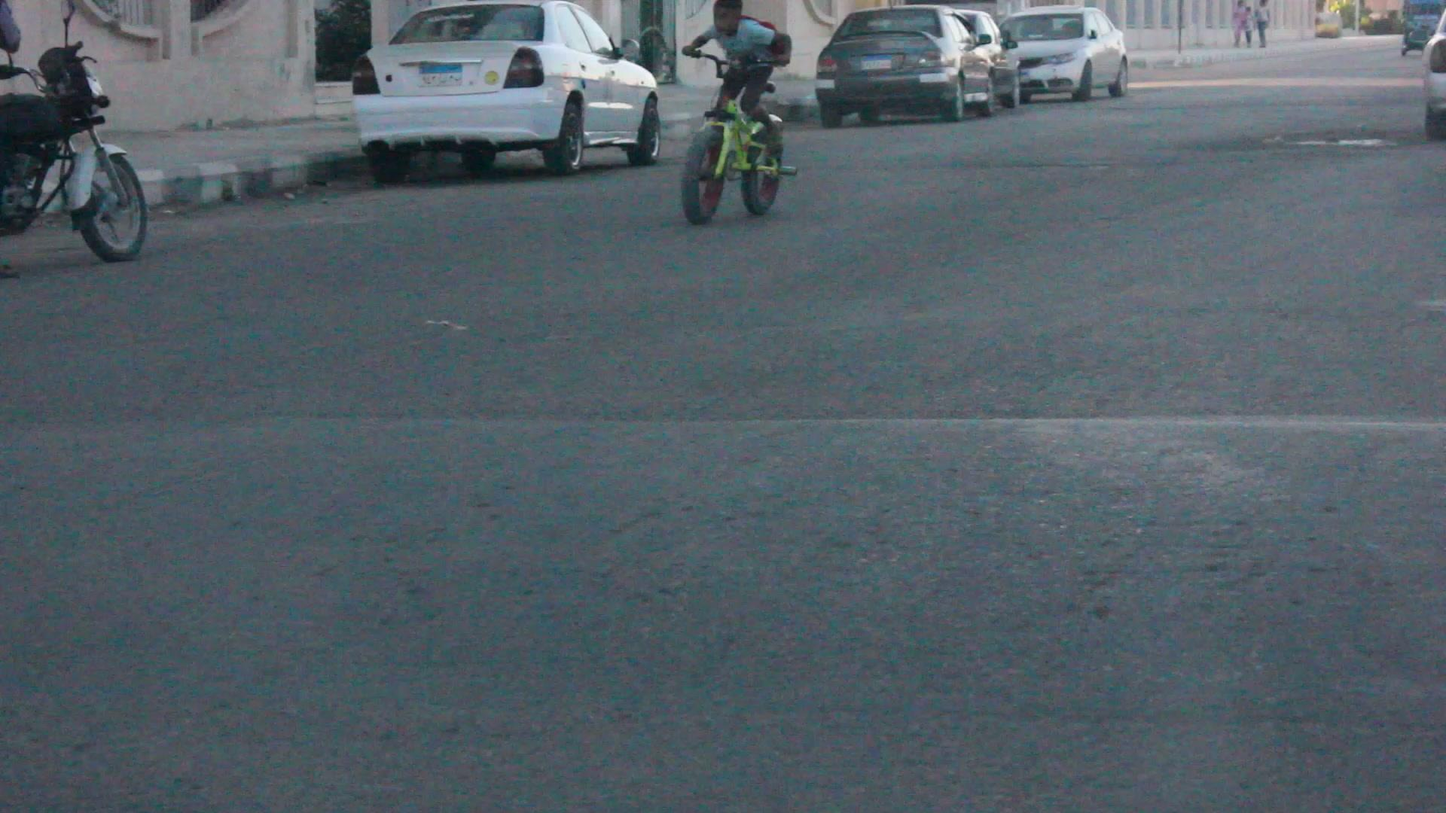Bump: (0, 416, 1445, 732)
Pothole: (1207, 129, 1407, 152)
